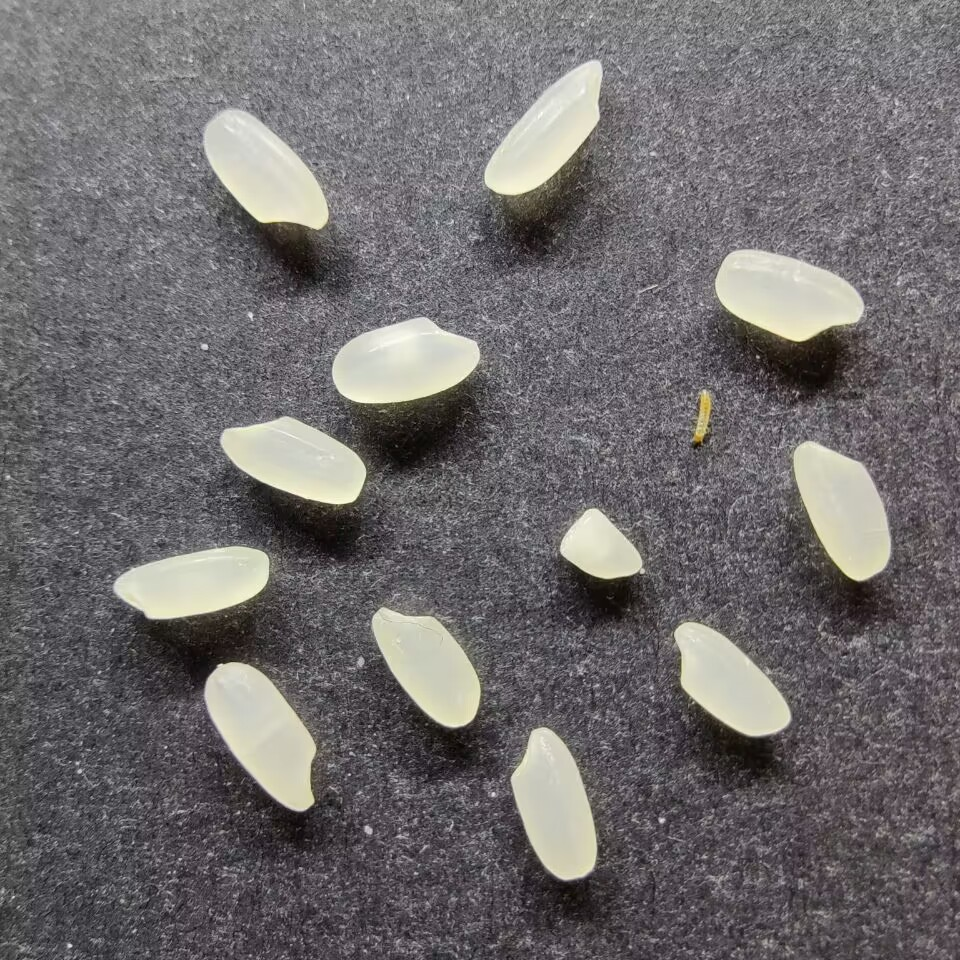broken: (558, 507, 643, 579)
others: (688, 388, 712, 448)
rice: (202, 660, 317, 812), (482, 55, 603, 195), (202, 108, 329, 229), (713, 248, 863, 343), (791, 440, 892, 581), (369, 605, 482, 729), (672, 620, 791, 737), (508, 727, 597, 881), (218, 415, 366, 505), (330, 315, 479, 404), (112, 545, 269, 620)
